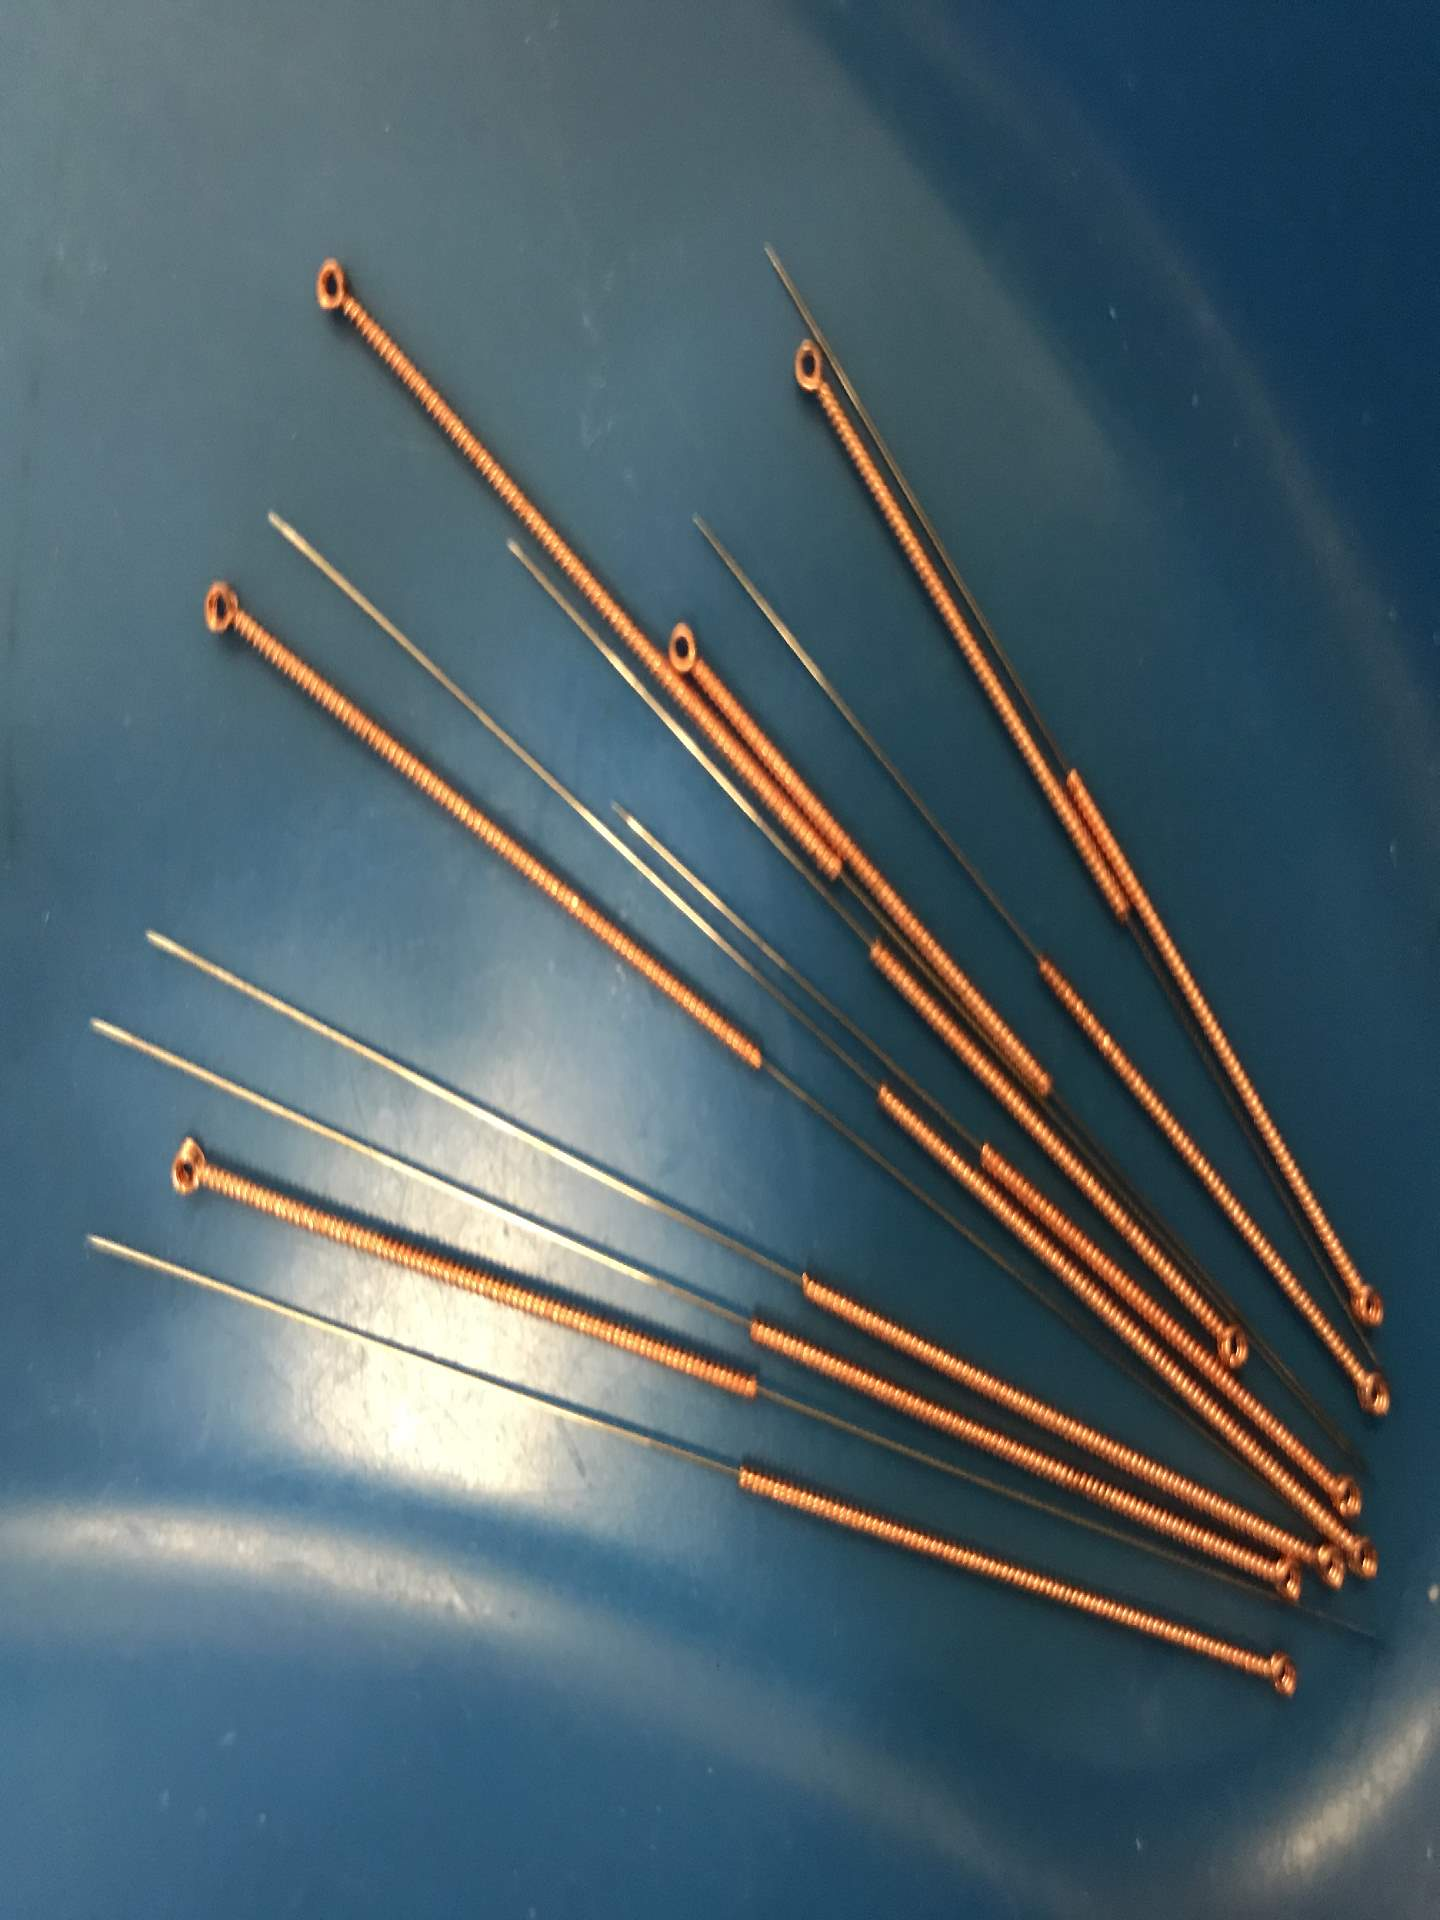needle: (773, 319, 850, 414), (185, 565, 265, 653), (295, 242, 372, 333), (1333, 1346, 1405, 1436), (154, 1126, 228, 1212), (1240, 1634, 1310, 1717), (1337, 1255, 1395, 1338), (1319, 1445, 1370, 1519), (664, 609, 709, 686), (1304, 1531, 1352, 1603), (1248, 1551, 1305, 1609), (1342, 1519, 1389, 1584), (1213, 1305, 1255, 1376)
